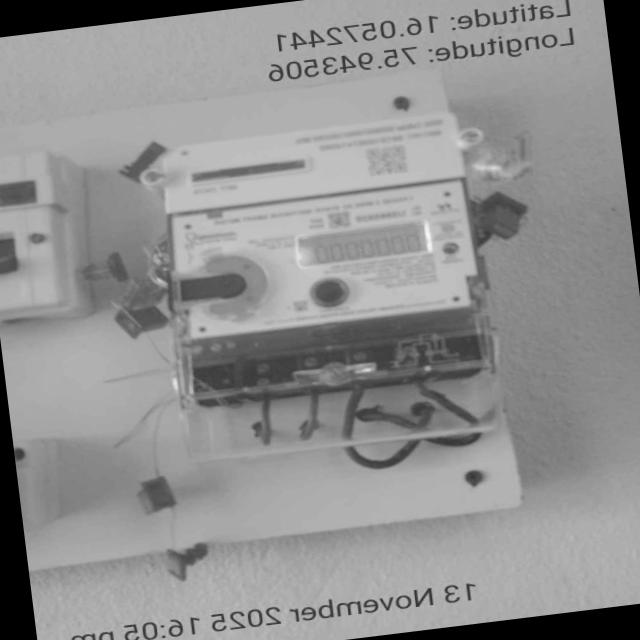meter: (155, 106, 484, 344)
